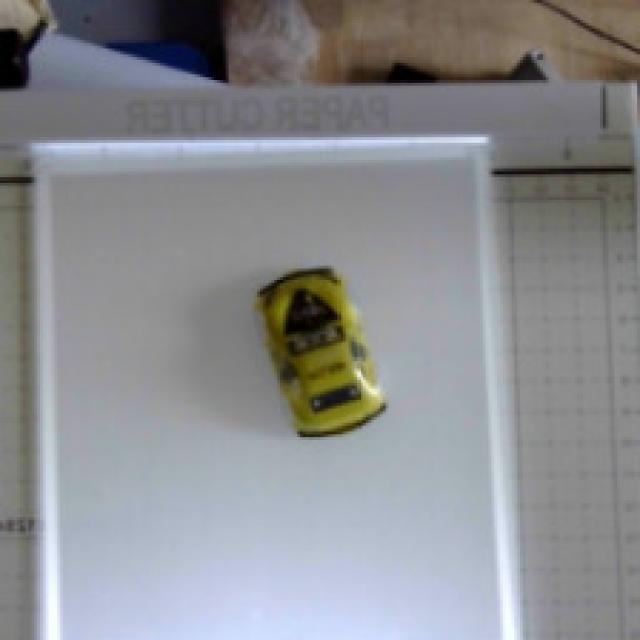Yellow Car: (202, 244, 407, 456)
